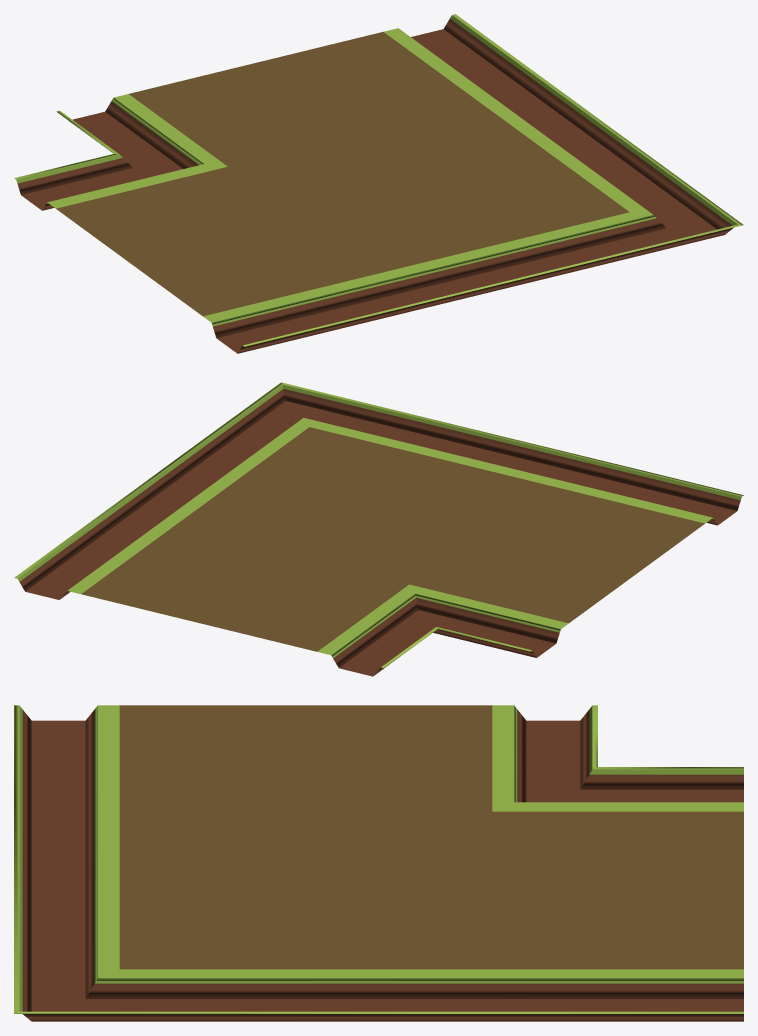
File: road_Dirt_Corner.fbx
3 views of the same model, one above another, from view 1: azimuth 30°, elevation 25°; view 2: azimuth 150°, elevation 25°; view 3: azimuth 270°, elevation 25° (orthographic). The views are drawn at different scales.
Parts seen in each view (by area): view 1: road_Dirt_Corner; view 2: road_Dirt_Corner; view 3: road_Dirt_Corner.
Part boxes in pixels (x1,y1,x2,y2): road_Dirt_Corner: [14, 14, 743, 353]; road_Dirt_Corner: [14, 382, 743, 676]; road_Dirt_Corner: [14, 705, 743, 1021].
Bounding box in the file's own units: 25 × 0.5748 × 25.
Materials: 1 (1 with a texture image).
